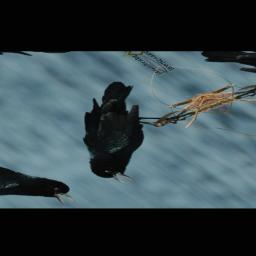Crow: (12, 78, 230, 188)
